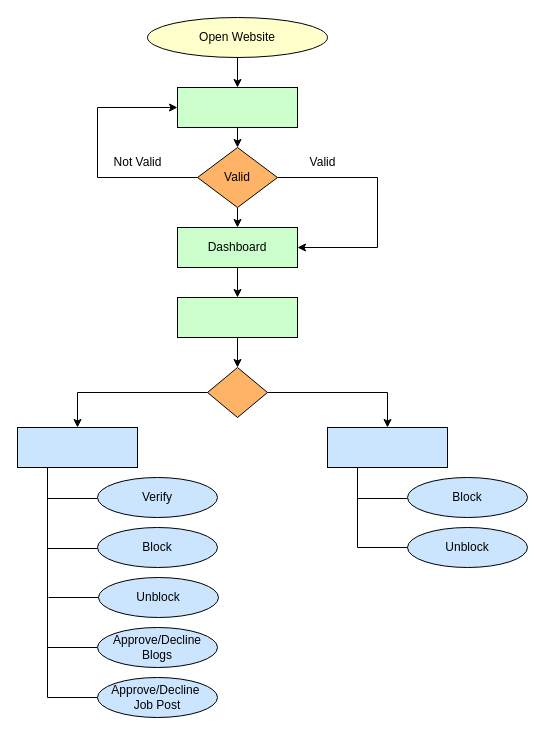
Image size: 545x735. Some labels were removed from this diagram. The shapes that lost their labels are listed below. From the top down, each one's centre as x and y in pixels, then its label:
point 237,107: Login
point 237,317: Control
point 77,447: Alumni
point 387,447: Student
